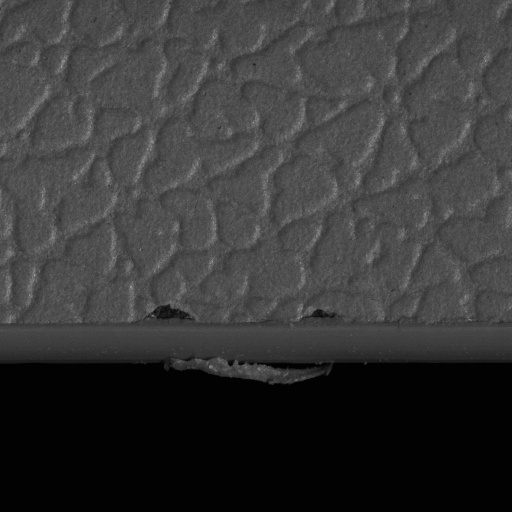bengque: (140, 301, 199, 325), (302, 307, 335, 326)
